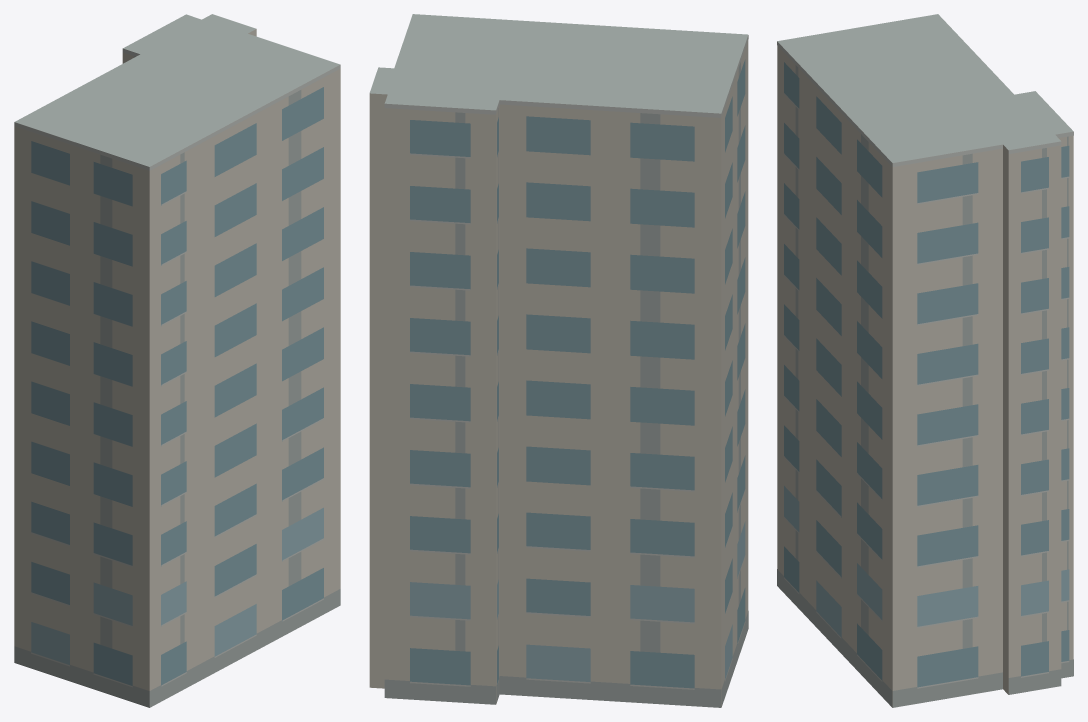
The model's file is residential-fc1be296-c85d-41aa-b89a-c6de7c2b7150.glb.
The picture shows the model from 3 angles, left to right: view 1: azimuth 30°, elevation 25°; view 2: azimuth 150°, elevation 25°; view 3: azimuth 270°, elevation 25°; orthographic projection. The views are drawn at different scales.
Parts seen in each view (by area): view 1: residential-fc1be296-c85d-41aa-b89a-c6de7c2b7150.tmp; view 2: residential-fc1be296-c85d-41aa-b89a-c6de7c2b7150.tmp; view 3: residential-fc1be296-c85d-41aa-b89a-c6de7c2b7150.tmp.
Boxes of the visible parts, bbox=[...] form: residential-fc1be296-c85d-41aa-b89a-c6de7c2b7150.tmp: bbox=[14, 14, 340, 707]; residential-fc1be296-c85d-41aa-b89a-c6de7c2b7150.tmp: bbox=[369, 14, 748, 707]; residential-fc1be296-c85d-41aa-b89a-c6de7c2b7150.tmp: bbox=[777, 14, 1073, 707].
Bounding box in the file's own units: 19.39 × 33 × 16.3.
